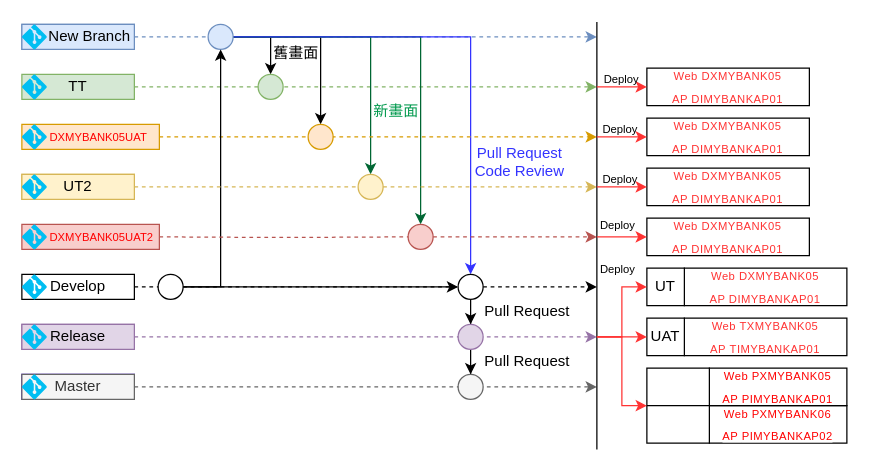
This 869x473 diagram has some shape labels left out. Each missing label, with the centre of its shape:
"PRD ( Group1 )" belongs at point (677, 386).
"PRD (Group 2 )" belongs at point (677, 423).
